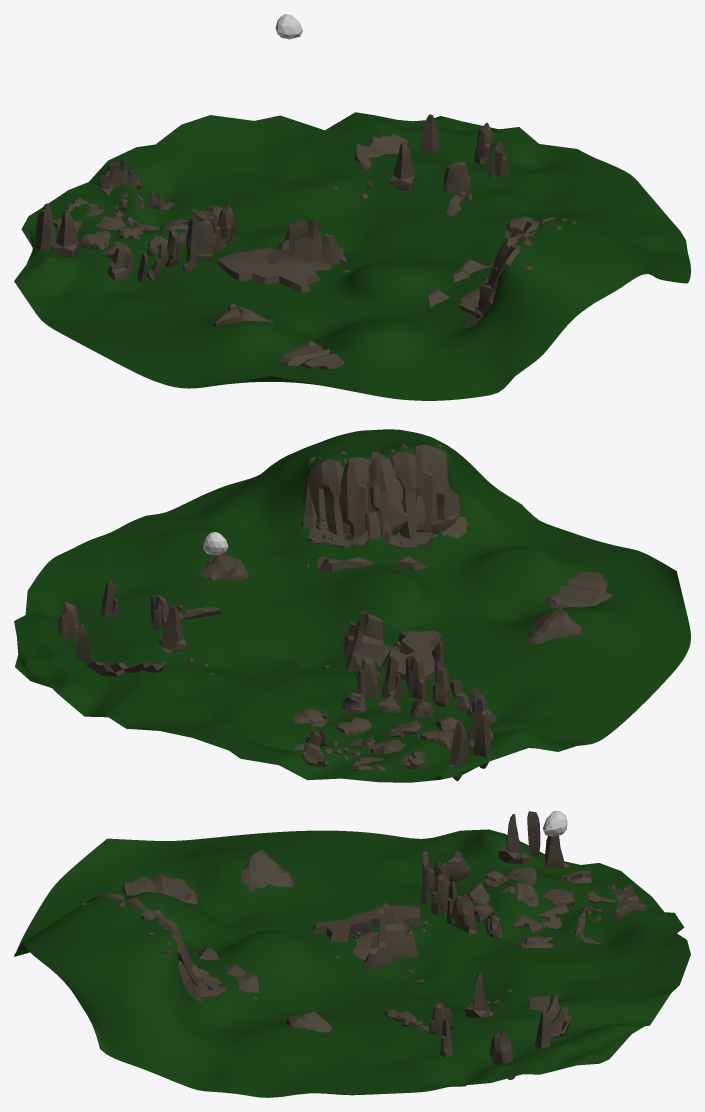
Rendered from rocks1.obj.
3 renders of one model, top to bottom at view 1: azimuth 30°, elevation 25°; view 2: azimuth 150°, elevation 25°; view 3: azimuth 270°, elevation 25°, orthographic.
Parts seen in each view (by area): view 1: Plane, rock.046_Icosphere.061, rock.005_Icosphere.063, rock.040_Icosphere.056, rock.061_Icosphere.087, rock.044_Icosphere.071, rock.026_Icosphere.027, rock.043_Icosphere.070, rock.004_Icosphere.004, rock.029_Icosphere.067, rock.010_Icosphere.010, rock.015_Icosphere.015 (+5 smaller); view 2: Plane, rock.040_Icosphere.056, rock.005_Icosphere.063, rock.046_Icosphere.061, rock.061_Icosphere.087, rock.047_Icosphere.062, rock.062_Icosphere.088, rock.074_Icosphere.100, rock.043_Icosphere.070, rock.044_Icosphere.071, rock.069_Icosphere.095, rock.008_Icosphere.008 (+8 smaller); view 3: Plane, rock.046_Icosphere.061, rock.005_Icosphere.063, rock.040_Icosphere.056, rock.047_Icosphere.062, rock.061_Icosphere.087, rock.044_Icosphere.071, rock.004_Icosphere.004, rock.074_Icosphere.100, rock.008_Icosphere.008, rock.043_Icosphere.070, rock.062_Icosphere.088 (+11 smaller).
Part boxes in pixels (x1,y1,x2,y2): Plane: [14, 112, 690, 400]; rock.046_Icosphere.061: [217, 248, 332, 292]; rock.005_Icosphere.063: [275, 219, 346, 264]; rock.040_Icosphere.056: [474, 216, 576, 318]; rock.061_Icosphere.087: [279, 341, 345, 369]; rock.044_Icosphere.071: [354, 134, 408, 169]; rock.026_Icosphere.027: [97, 161, 140, 195]; rock.043_Icosphere.070: [389, 142, 417, 191]; rock.004_Icosphere.004: [52, 210, 80, 257]; rock.029_Icosphere.067: [443, 162, 470, 192]; rock.010_Icosphere.010: [196, 220, 215, 261]; rock.015_Icosphere.015: [107, 246, 133, 280]; Plane: [14, 429, 690, 782]; rock.040_Icosphere.056: [301, 444, 459, 540]; rock.005_Icosphere.063: [343, 610, 388, 671]; rock.046_Icosphere.061: [380, 630, 445, 682]; rock.061_Icosphere.087: [545, 572, 612, 608]; rock.047_Icosphere.062: [524, 608, 581, 644]; rock.062_Icosphere.088: [199, 554, 248, 580]; rock.074_Icosphere.100: [317, 532, 437, 573]; rock.043_Icosphere.070: [158, 606, 186, 653]; rock.044_Icosphere.071: [86, 661, 166, 676]; rock.069_Icosphere.095: [308, 527, 368, 547]; rock.008_Icosphere.008: [355, 657, 381, 697]; Plane: [14, 829, 690, 1097]; rock.046_Icosphere.061: [313, 905, 420, 959]; rock.005_Icosphere.063: [362, 902, 418, 968]; rock.040_Icosphere.056: [97, 892, 202, 1001]; rock.047_Icosphere.062: [240, 849, 294, 891]; rock.061_Icosphere.087: [123, 874, 197, 903]; rock.044_Icosphere.071: [528, 994, 571, 1037]; rock.004_Icosphere.004: [498, 814, 530, 864]; rock.074_Icosphere.100: [196, 947, 259, 992]; rock.008_Icosphere.008: [452, 894, 476, 934]; rock.043_Icosphere.070: [465, 972, 493, 1018]; rock.062_Icosphere.088: [285, 1011, 332, 1032].
Bounding box in the file's own units: 156 × 53.76 × 158.
